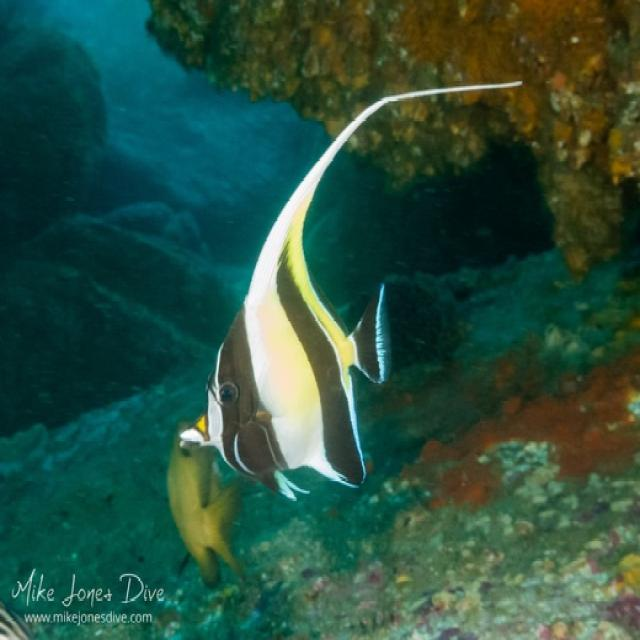MorishIdol: (174, 74, 524, 506)
